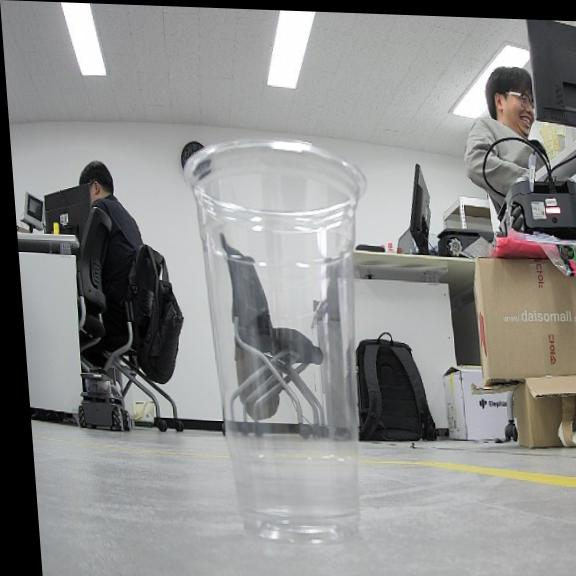Plastik: (185, 140, 364, 542)
